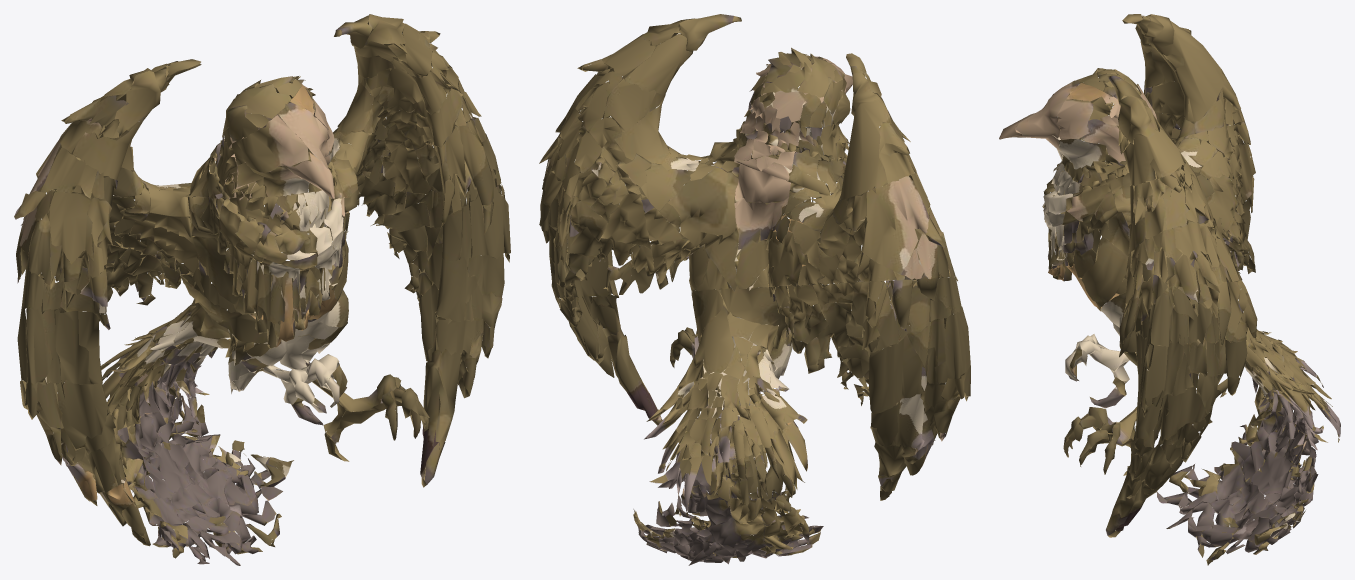
3 renders of one model, left to right at view 1: azimuth 30°, elevation 25°; view 2: azimuth 150°, elevation 25°; view 3: azimuth 270°, elevation 25°, orthographic. The views are drawn at different scales.
Parts seen in each view (by area): view 1: Mesh_0; view 2: Mesh_0; view 3: Mesh_0.
Part boxes in pixels (bbox=[...]): Mesh_0: bbox=[14, 14, 510, 565]; Mesh_0: bbox=[539, 14, 970, 565]; Mesh_0: bbox=[999, 14, 1340, 565].
Bounding box in the file's own units: 1.67 × 1.87 × 1.17.
Materials: 1 (1 with a texture image).
